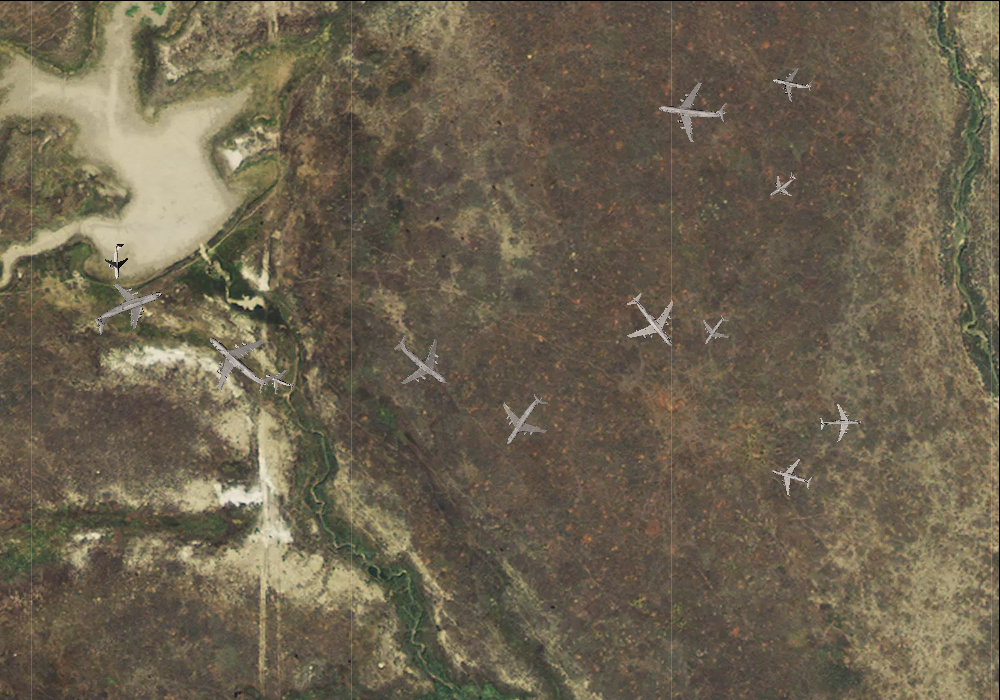plane: (187, 310, 291, 414), (378, 318, 466, 406), (82, 267, 173, 352), (610, 279, 694, 363), (485, 381, 563, 460), (654, 73, 731, 147), (766, 452, 817, 501), (769, 59, 817, 106), (692, 307, 738, 353), (761, 164, 804, 206), (819, 403, 861, 443), (260, 361, 299, 400), (101, 242, 133, 279)
